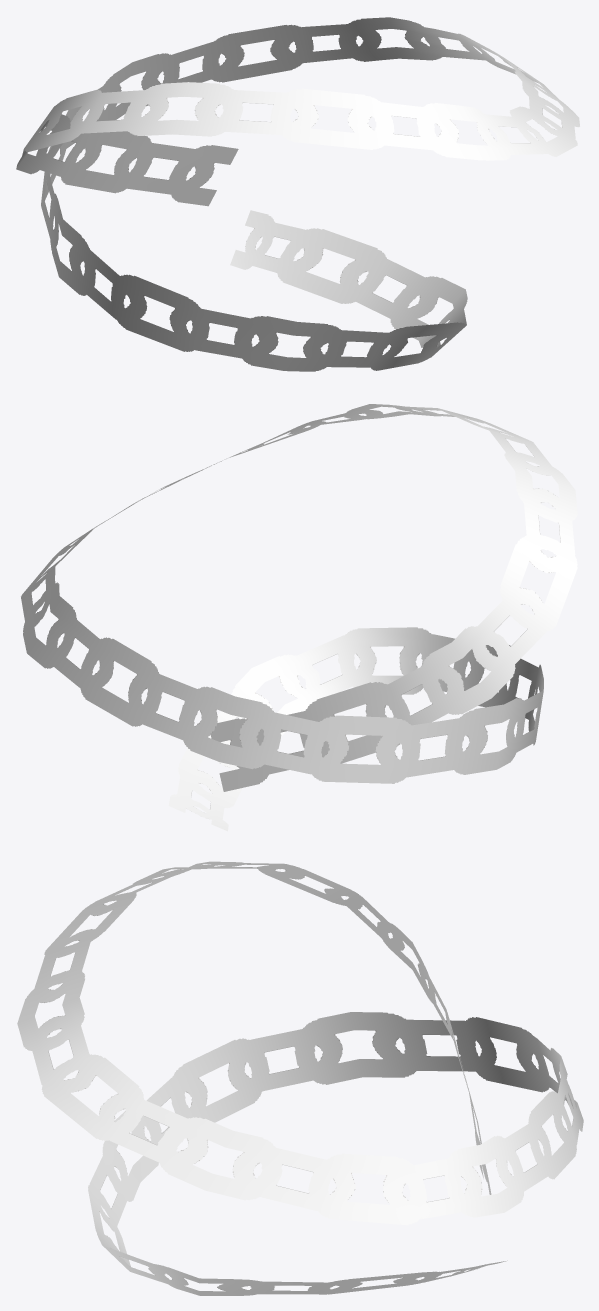
The model's file is suolian1.FBX.
3 renders of one model, top to bottom at view 1: azimuth 30°, elevation 25°; view 2: azimuth 150°, elevation 25°; view 3: azimuth 270°, elevation 25°, orthographic. The views are drawn at different scales.
Parts seen in each view (by area): view 1: suolian1; view 2: suolian1; view 3: suolian1.
Boxes of the visible parts, bbox=[...] form: suolian1: bbox=[16, 17, 579, 371]; suolian1: bbox=[21, 404, 577, 831]; suolian1: bbox=[17, 861, 583, 1295].
Size of the model in its own units: 1.66 by 1.53 by 0.9894.
